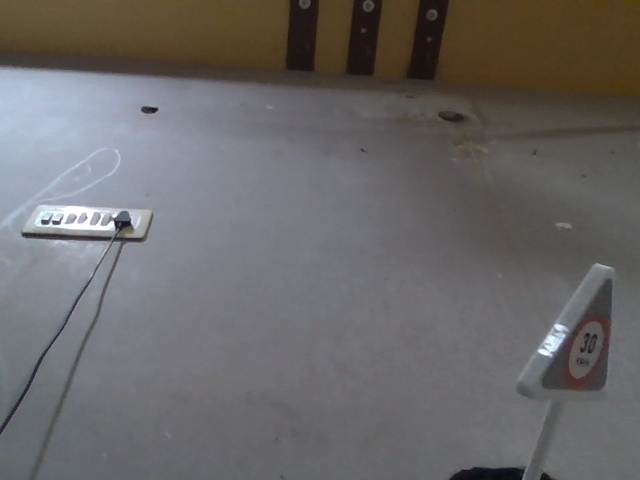speedlimit: (508, 255, 626, 417)
